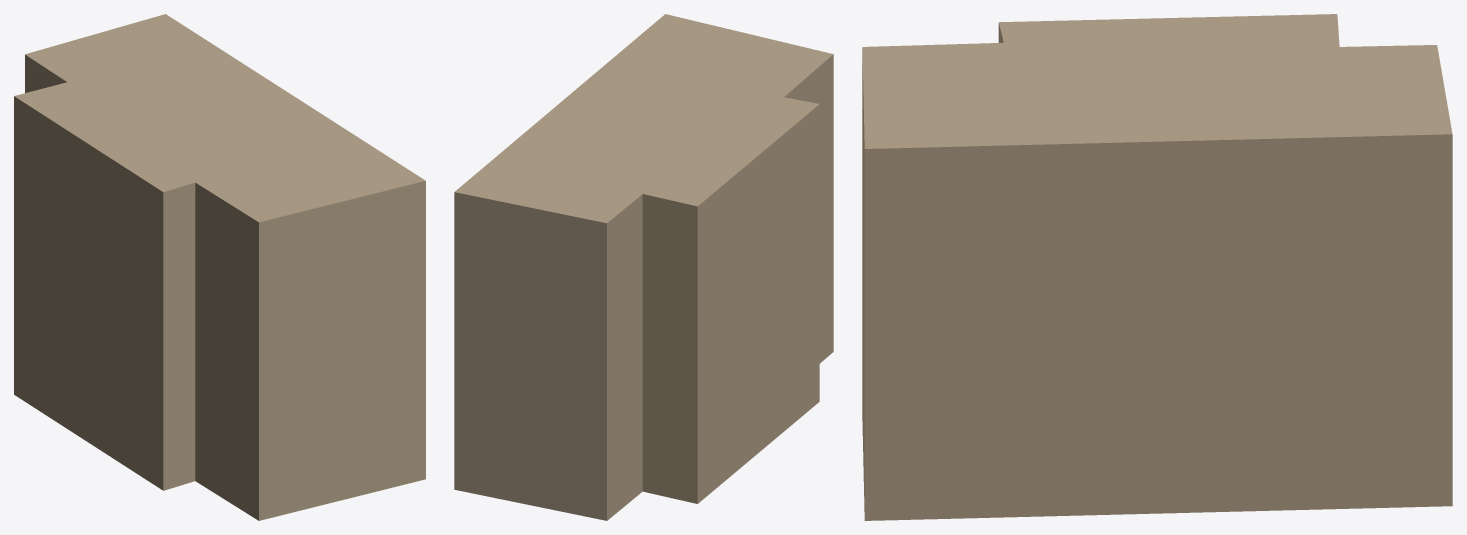
Rendered from bld_99615978.dae.
3 views of the same model, side by side, from view 1: azimuth 30°, elevation 25°; view 2: azimuth 150°, elevation 25°; view 3: azimuth 270°, elevation 25° (orthographic). The views are drawn at different scales.
Parts seen in each view (by area): view 1: bld_99615978; view 2: bld_99615978; view 3: bld_99615978.
Part boxes in pixels (box(x1,y1,x2,y2)): bld_99615978: box(14, 14, 425, 520); bld_99615978: box(454, 14, 833, 520); bld_99615978: box(862, 14, 1452, 520).
Bounding box in the file's own units: 6.23 × 11.5 × 8.
